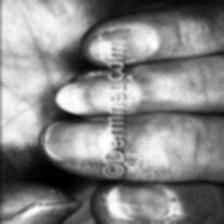Toxin: (106, 184, 177, 224)
